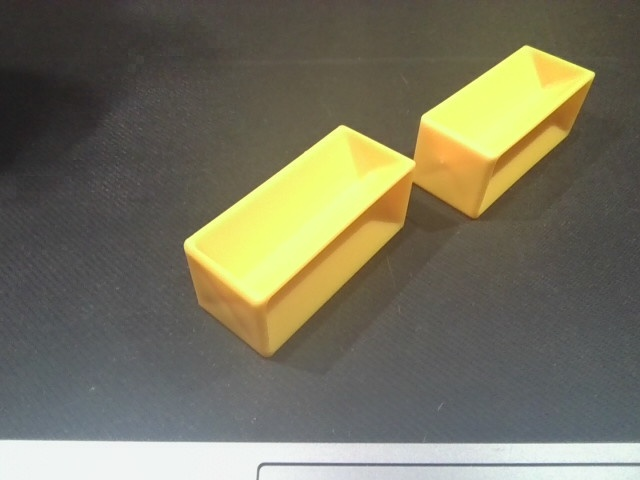YellowSample: (182, 122, 415, 363), (413, 35, 599, 222)
